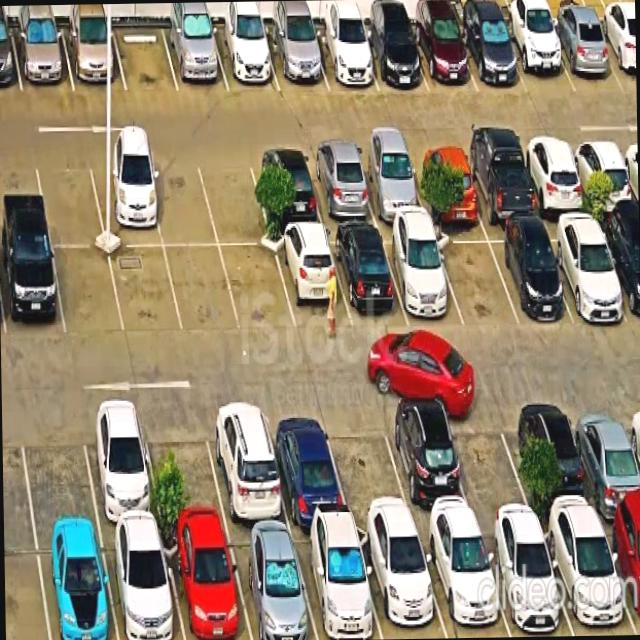empty: (445, 399, 535, 521), (322, 404, 413, 523), (141, 405, 227, 528), (17, 405, 98, 530), (433, 229, 518, 326), (196, 150, 271, 245), (145, 153, 218, 246), (164, 247, 240, 333), (34, 153, 105, 245), (109, 246, 182, 335), (52, 247, 124, 336), (220, 247, 295, 331), (112, 25, 178, 91)
occupied: (380, 401, 477, 524), (539, 517, 635, 636), (478, 522, 573, 637), (203, 401, 289, 526), (417, 523, 510, 638), (263, 404, 350, 524), (291, 526, 382, 640), (356, 526, 447, 639), (226, 529, 318, 640), (516, 397, 599, 520), (79, 405, 162, 527), (162, 529, 251, 640), (101, 529, 184, 640), (35, 530, 117, 640), (542, 220, 629, 320), (567, 397, 640, 516), (485, 227, 571, 324), (380, 229, 464, 326), (273, 230, 351, 331), (327, 229, 408, 326), (87, 154, 163, 245), (0, 242, 65, 337), (460, 144, 539, 222), (248, 149, 324, 228), (407, 146, 483, 220), (353, 147, 428, 221), (304, 148, 377, 224), (545, 21, 623, 92), (501, 21, 575, 95), (518, 140, 590, 215), (456, 20, 527, 92), (568, 139, 638, 212), (409, 20, 477, 93), (599, 514, 640, 635), (359, 24, 428, 91), (596, 220, 640, 325), (211, 25, 280, 91), (162, 25, 228, 92), (61, 25, 126, 91), (310, 28, 378, 90), (11, 26, 74, 92), (264, 28, 328, 90), (594, 21, 636, 91)
